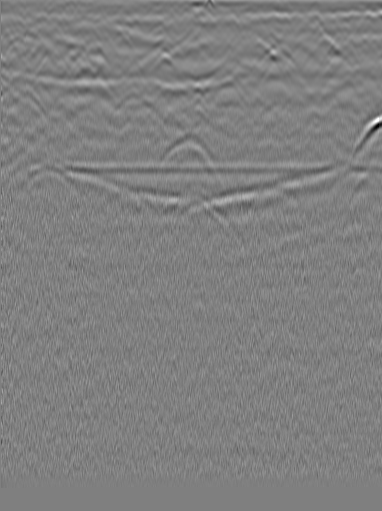가스: (344, 115, 381, 160), (323, 164, 343, 184)
